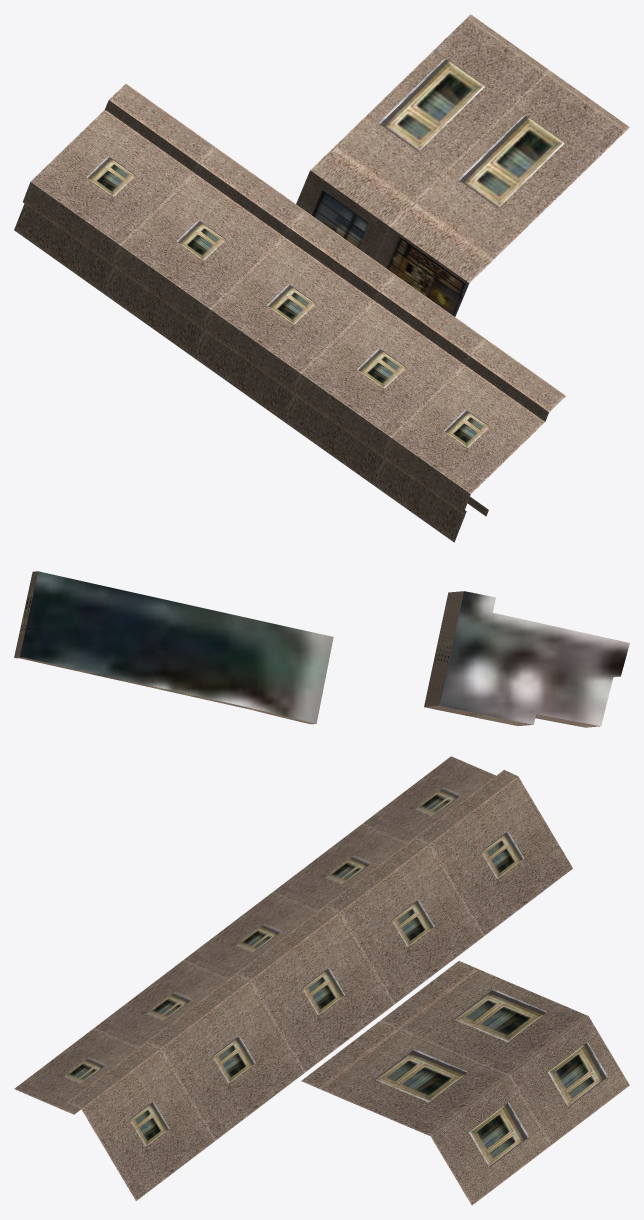
3 renders of one model, top to bottom at view 1: azimuth 30°, elevation 25°; view 2: azimuth 150°, elevation 25°; view 3: azimuth 270°, elevation 25°, orthographic. The views are drawn at different scales.
Bounding box in the file's own units: 22.51 × 11.73 × 19.81.
6 materials, 6 textured.
